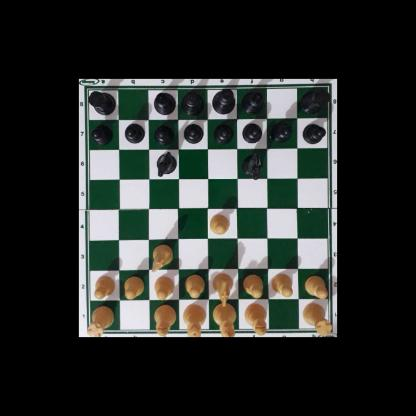black-bishop: (240, 89, 265, 114), (152, 91, 176, 114)
black-king: (210, 87, 235, 116)
black-knight: (242, 151, 263, 179), (156, 151, 176, 175)
black-pawn: (302, 122, 325, 143), (242, 120, 262, 143), (272, 120, 292, 142), (183, 120, 202, 143), (91, 123, 112, 143), (124, 122, 144, 143), (154, 123, 173, 145), (213, 122, 232, 143)
black-queen: (181, 89, 204, 116)
black-rook: (301, 85, 329, 113), (86, 89, 115, 115)
white-bishop: (154, 304, 178, 337), (244, 303, 267, 334)
white-king: (213, 302, 237, 337)
white-knight: (212, 272, 233, 306), (150, 242, 172, 270)
white-pawn: (271, 272, 294, 297), (93, 274, 115, 299), (304, 274, 327, 297), (183, 273, 204, 297), (243, 273, 264, 297), (153, 274, 173, 299), (123, 274, 143, 297), (209, 212, 229, 234)
white-queen: (182, 303, 207, 337)
white-rook: (303, 300, 330, 335), (88, 302, 112, 337)
